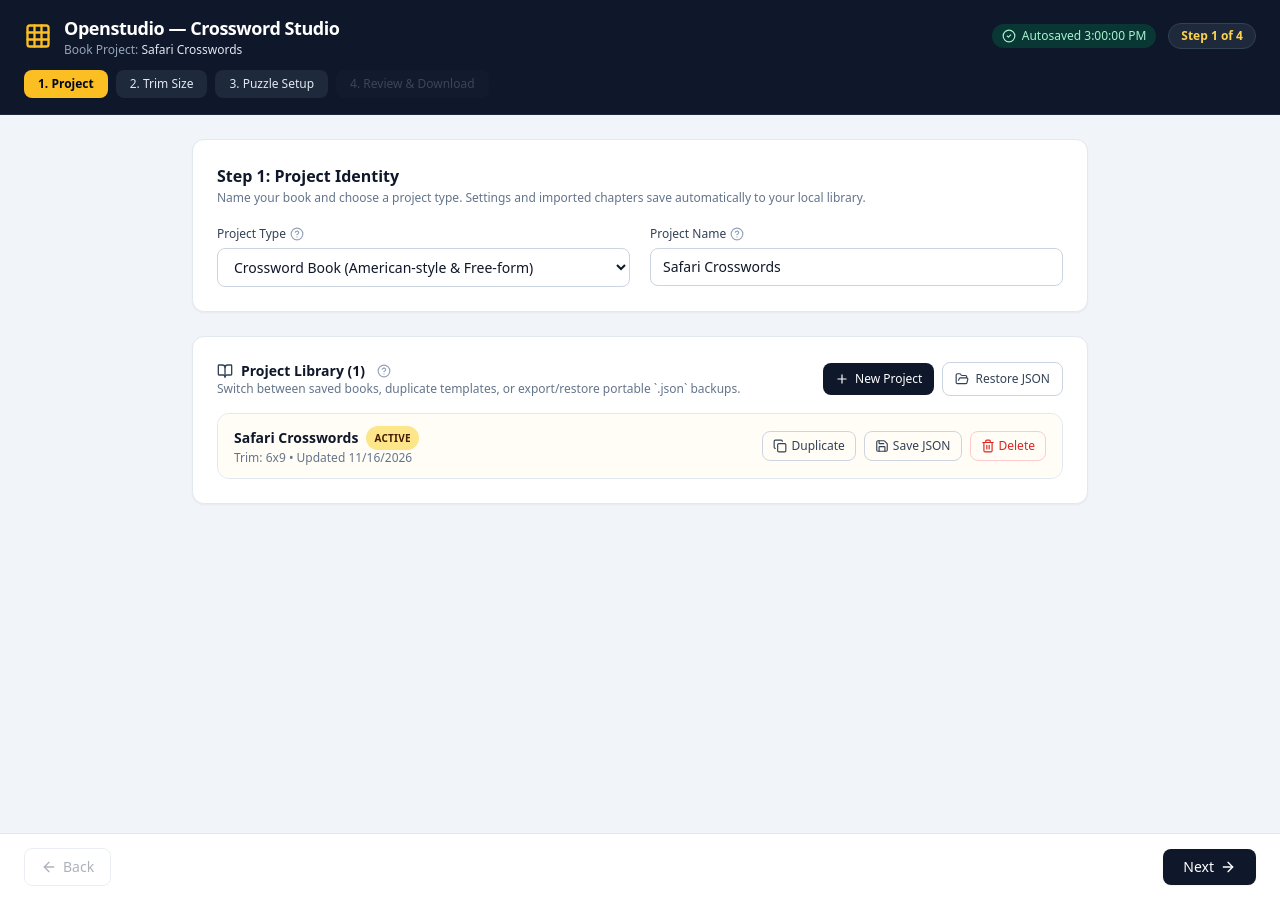
Test case: Phase 5: 4-Step Crossword Book Studio › enforces Step N of 4 navigation guards and removes the legacy Bulk screen
Expected: the text "Step 1 of 4" is shown, [1168,23,1256,49]
Clear the field labelled "Project Name" at {"x": 856, "y": 267}, box [650,248,1063,286]
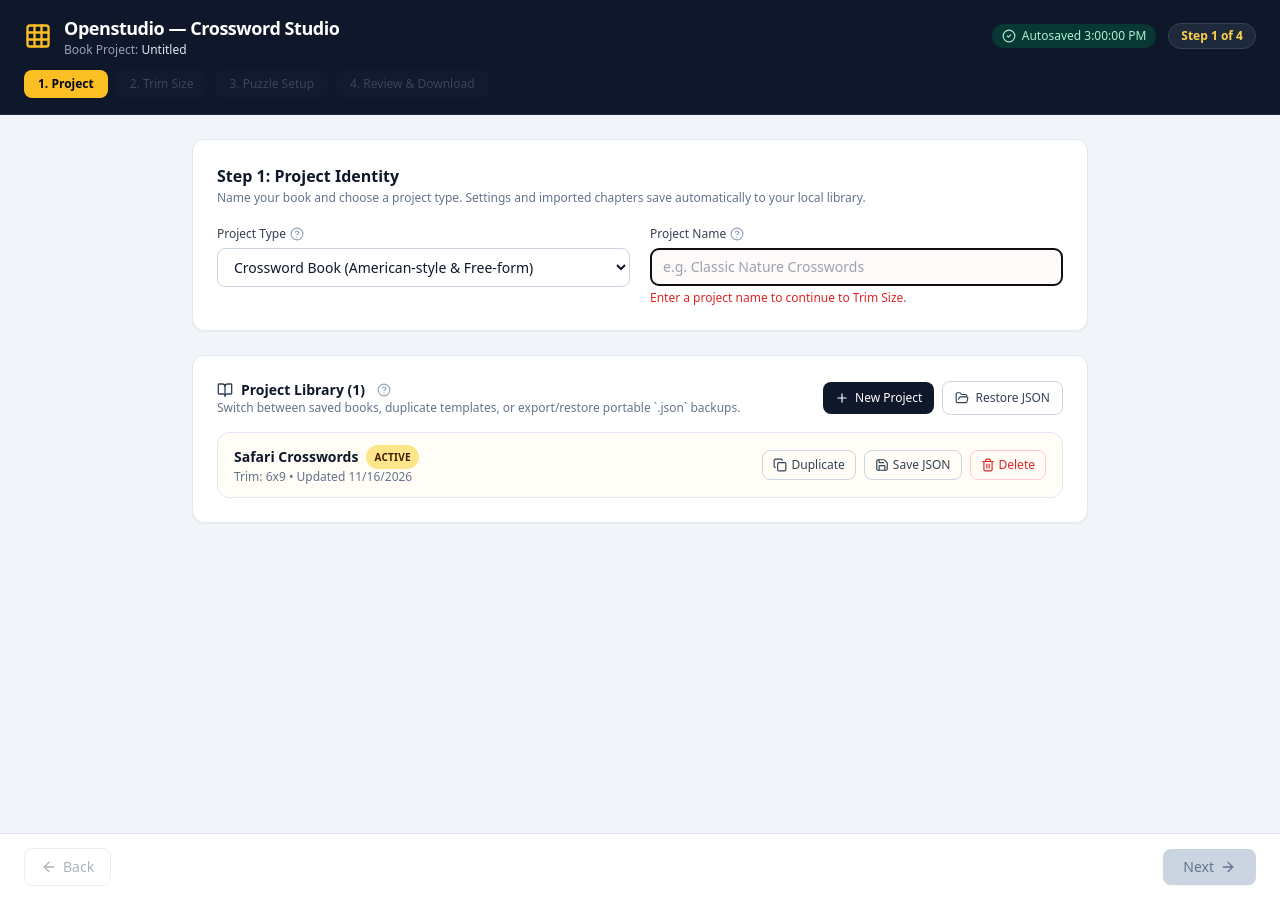
Expected: the button "Next" is disabled, [1163,849,1256,885]
Expected: the button "2. Trim Size" is disabled, [116,70,208,98]
Note: Typing a valid project name enables advancing to Step 2
Type "Ocean Crosswords" into the field labelled "Project Name" at {"x": 856, "y": 267}, box [650,248,1063,286]
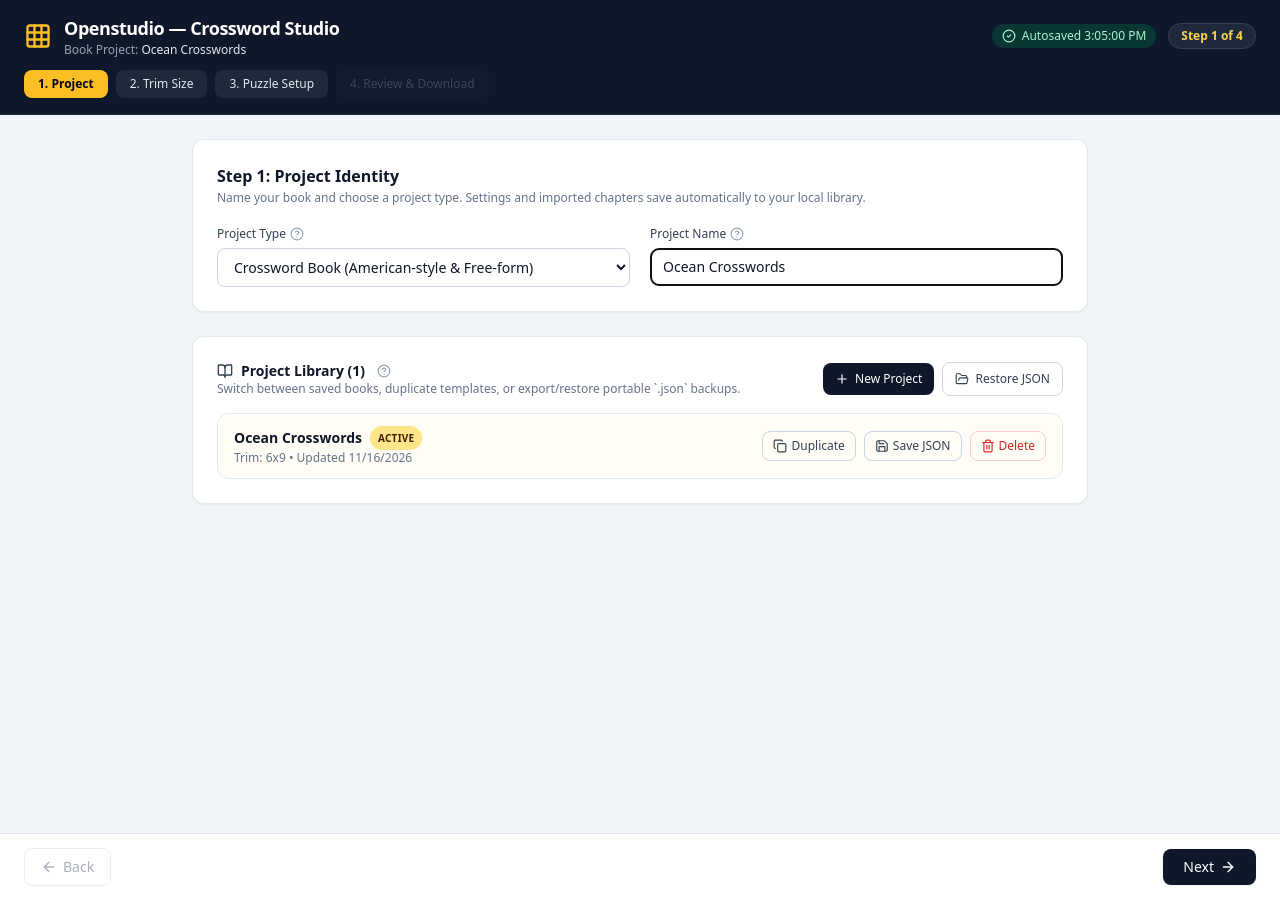
Expected: the button "Next" is enabled
Click the button "Next" at {"x": 1210, "y": 867}, box [1163,849,1256,885]
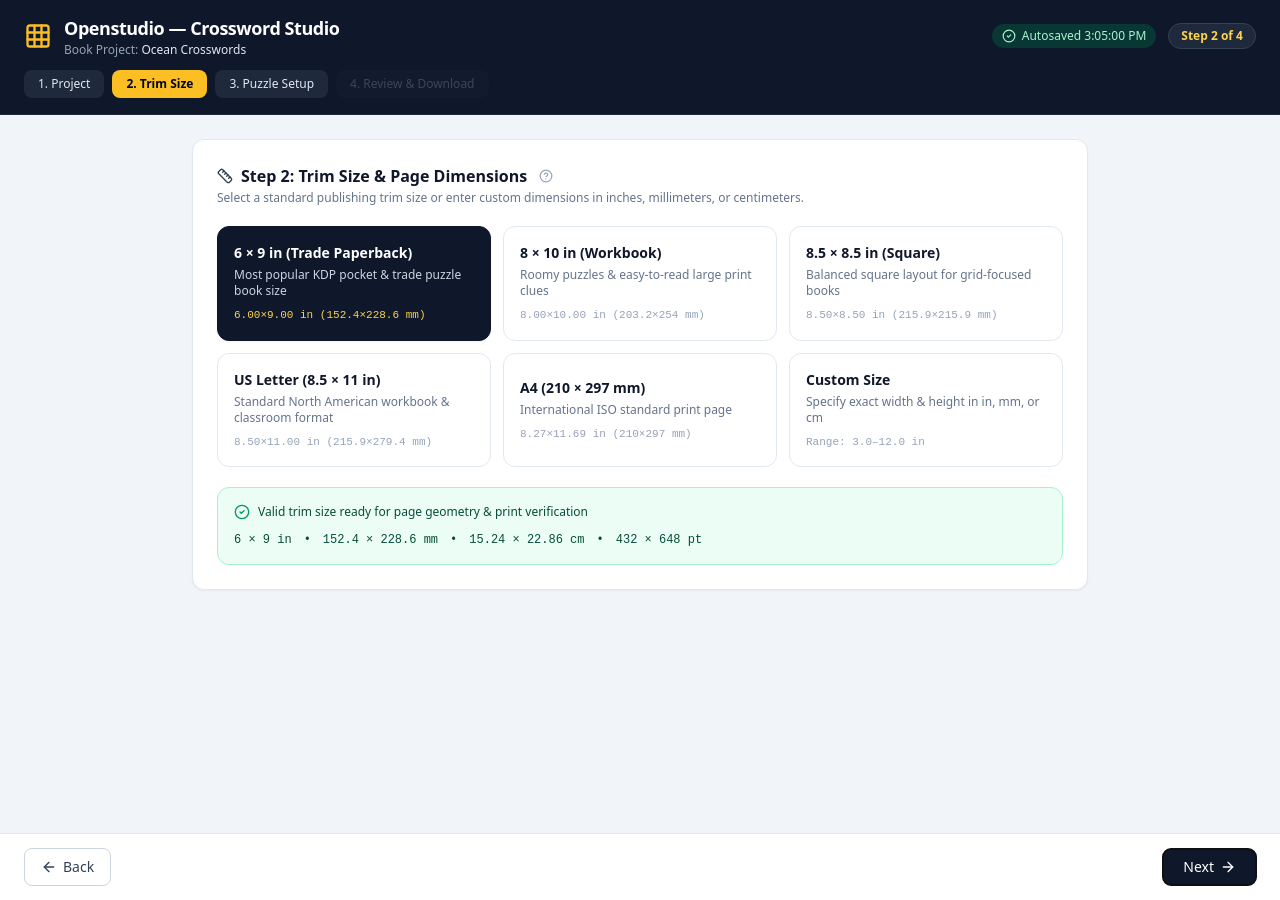
Expected: the text "Step 2 of 4" is shown, [1168,23,1256,49]
Note: Advance to Step 3
Click the button "Next" at {"x": 1210, "y": 867}, box [1163,849,1256,885]
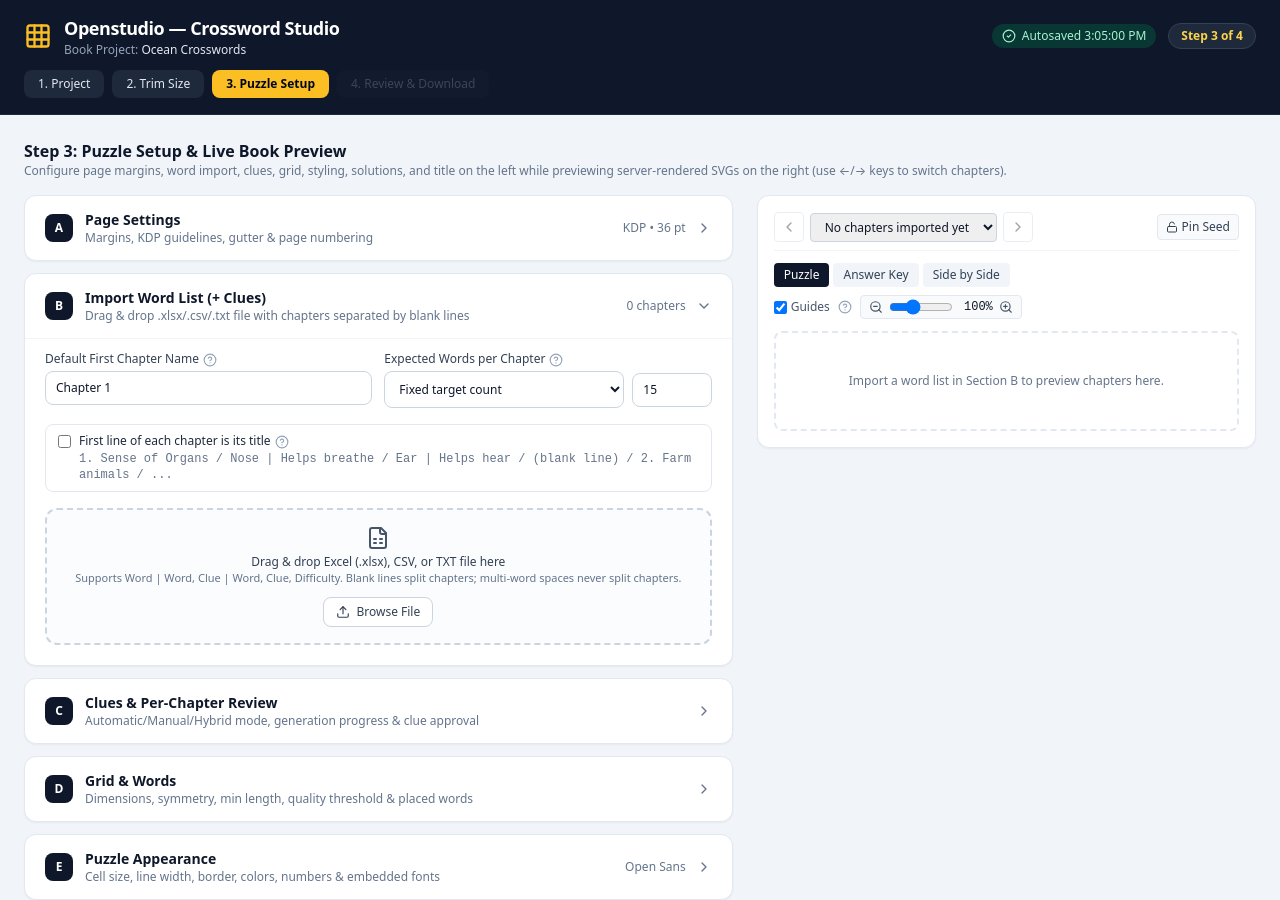
Expected: the button "4. Review & Download" is disabled, [337,70,490,98]
Expected: the text "Step 3 of 4" is shown, [1168,23,1256,49]
